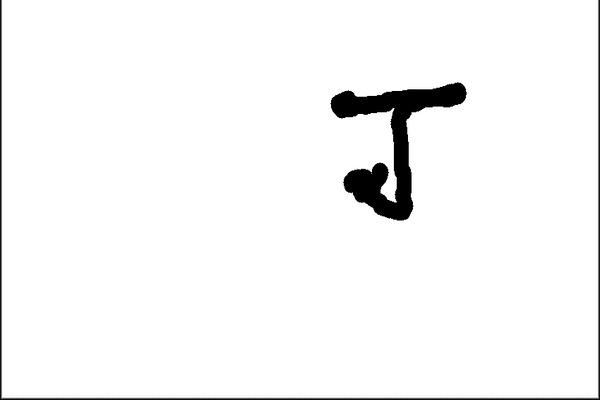J: (323, 78, 473, 222)
